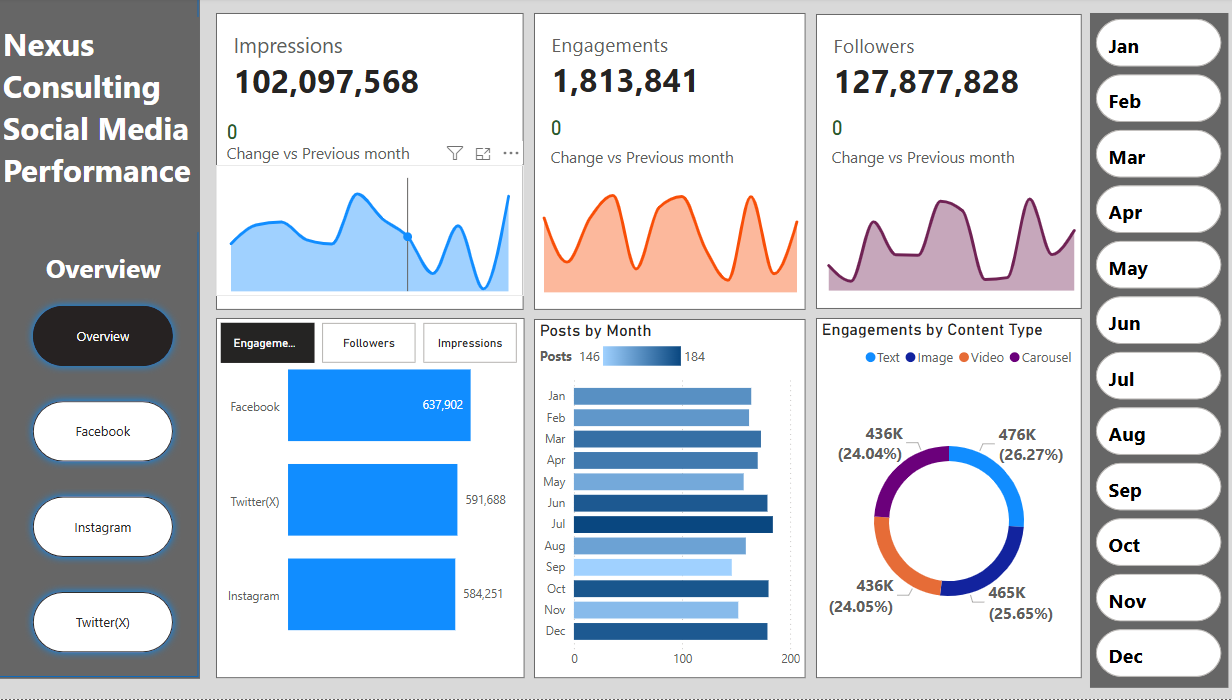

This screenshot's page, from the dashboard's own definition file:
{"tool":"powerbi","page":{"name":"Overview","canvas":[1280,720],"ordinal":0},"visuals":[{"type":"cardVisual","fields":{"Data":["_Measures.Engagements"]},"box":[558.3,15,279.1,305],"z":0},{"type":"cardVisual","fields":{"Data":["_Measures.Followers"]},"box":[847.1,16.4,273.4,303.2],"z":1000},{"type":"cardVisual","fields":{"Data":["_Measures.Impressions"]},"box":[231.5,15,315.9,305],"z":2000},{"type":"cardVisual","fields":{"Data":["_Measures.EngagementsMoM"]},"box":[558.3,102.1,239.7,91.2],"z":3000},{"type":"areaChart","fields":{"Category":["DateTable.Month Name"],"Y":["_Measures.Impressions"]},"box":[231.5,171.6,315.9,134.8],"z":4000},{"type":"cardVisual","fields":{"Data":["_Measures.FollowersMom"]},"box":[847,102.1,239.7,91.2],"z":5000},{"type":"areaChart","fields":{"Category":["DateTable.Month Name"],"Y":["_Measures.Engagements"]},"box":[554.2,172.9,288.7,134.8],"z":6000},{"type":"areaChart","fields":{"Category":["DateTable.Month Name"],"Y":["_Measures.Followers"]},"box":[847,172.9,280.5,133.4],"z":7000},{"type":"clusteredBarChart","fields":{"Y":["_Measures.Engagements"],"Category":["SMData.Platform"]},"box":[231,329.2,316.7,369.6],"z":8000},{"type":"donutChart","title":"Engagements by Content Type","fields":{"Category":["SMData.Content_Type"],"Y":["_Measures.Engagements"]},"box":[847.1,329.2,273.4,369.6],"z":9000},{"type":"shape","box":[6.8,0,207,698.6],"z":10000},{"type":"advancedSlicerVisual","fields":{"Values":["Parameter.Parameter"]},"box":[231,329.2,316.7,52],"z":11000},{"type":"advancedSlicerVisual","fields":{"Values":["DateTable.Month Name"]},"box":[1128.9,15,141.6,693.1],"z":12000},{"type":"cardVisual","fields":{"Data":["_Measures.ImpressionsMoM"]},"box":[224.7,102.1,239.7,91.2],"z":13000},{"type":"textbox","box":[35.4,253.3,160.7,53.1],"z":14000},{"type":"pageNavigator","box":[35.4,307.7,160.7,375.8],"z":15000},{"type":"textbox","box":[6.8,19.1,207,220.6],"z":16000},{"type":"clusteredBarChart","title":"Posts by Month ","fields":{"Y":["_Measures.Posts"],"Category":["DateTable.Month Name"]},"box":[558.3,329.5,279.1,369],"z":17000}]}

Visuals, with their boxes in screenshot pixels (x1, y1, x2, y2), scaled from the page's 1280x720 canvas onto the 1232x700 screenshot:
cardVisual - _Measures.Engagements: locate(537, 15, 806, 311)
cardVisual - _Measures.Followers: locate(815, 16, 1078, 311)
cardVisual - _Measures.Impressions: locate(223, 15, 527, 311)
cardVisual - _Measures.EngagementsMoM: locate(537, 99, 768, 188)
areaChart - DateTable.Month Name x _Measures.Impressions: locate(223, 167, 527, 298)
cardVisual - _Measures.FollowersMom: locate(815, 99, 1046, 188)
areaChart - DateTable.Month Name x _Measures.Engagements: locate(533, 168, 811, 299)
areaChart - DateTable.Month Name x _Measures.Followers: locate(815, 168, 1085, 298)
clusteredBarChart - _Measures.Engagements x SMData.Platform: locate(222, 320, 527, 679)
"Engagements by Content Type" donutChart: locate(815, 320, 1078, 679)
shape: locate(7, 0, 206, 679)
advancedSlicerVisual - Parameter.Parameter: locate(222, 320, 527, 371)
advancedSlicerVisual - DateTable.Month Name: locate(1087, 15, 1223, 688)
cardVisual - _Measures.ImpressionsMoM: locate(216, 99, 447, 188)
textbox: locate(34, 246, 189, 298)
pageNavigator: locate(34, 299, 189, 665)
textbox: locate(7, 19, 206, 233)
"Posts by Month " clusteredBarChart: locate(537, 320, 806, 679)
